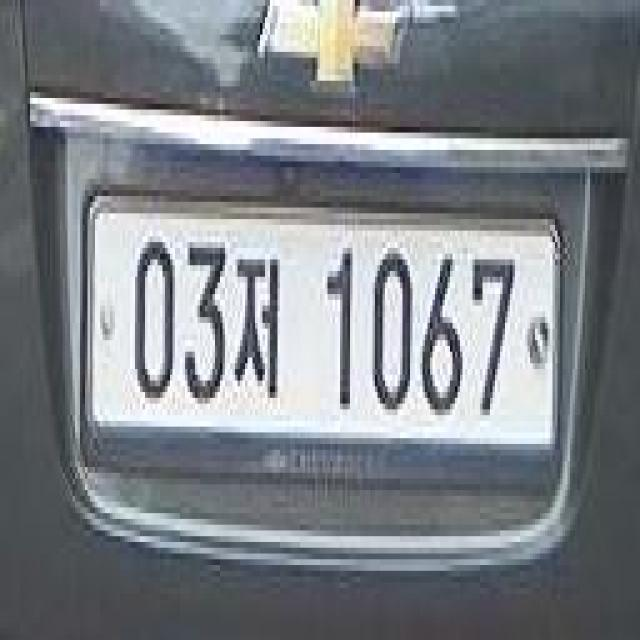illegal_plate: (85, 178, 567, 507)
